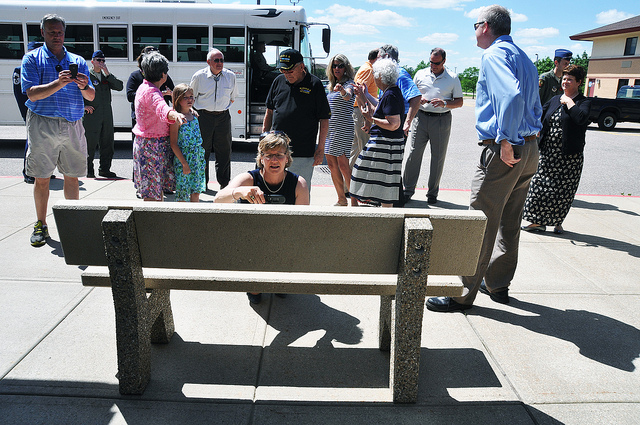Person: (464, 14, 538, 267), (16, 11, 91, 179), (415, 45, 458, 219), (193, 36, 240, 184), (130, 52, 171, 199), (239, 130, 315, 208), (268, 54, 326, 148), (369, 64, 409, 198)
